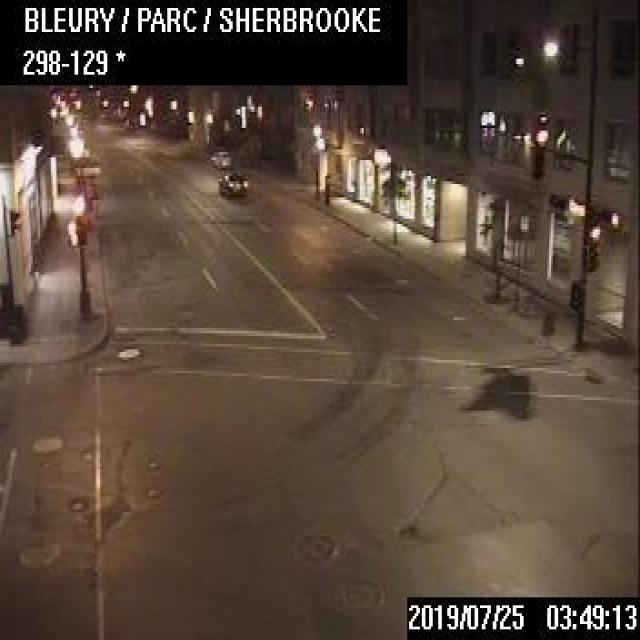vehicle: (216, 164, 246, 197), (208, 146, 230, 168)
